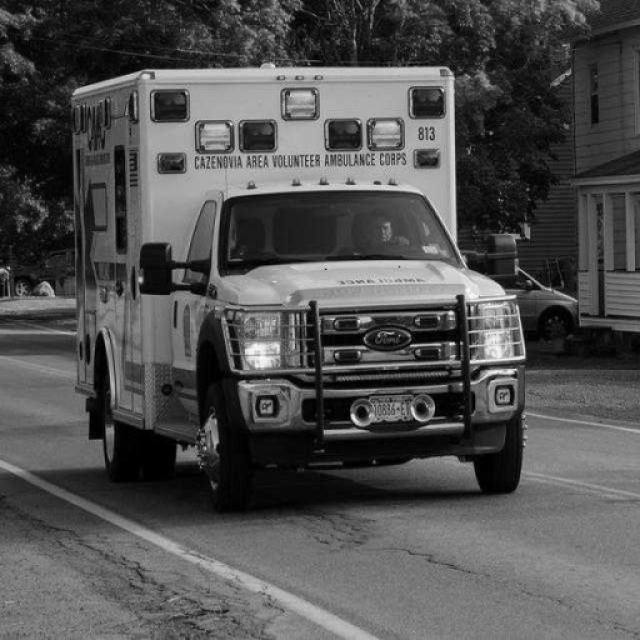Ambulance: (71, 66, 527, 514)
